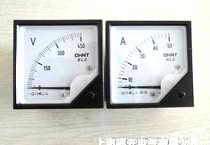pointer: (15, 24, 98, 104), (109, 25, 190, 104)
